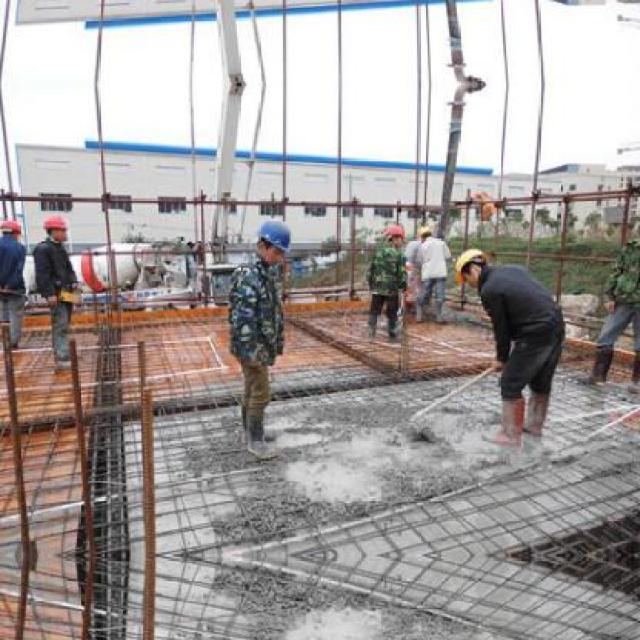helmet: (251, 214, 291, 266), (453, 246, 492, 283), (42, 210, 69, 242), (383, 220, 405, 245), (2, 215, 23, 240), (416, 220, 436, 242)
